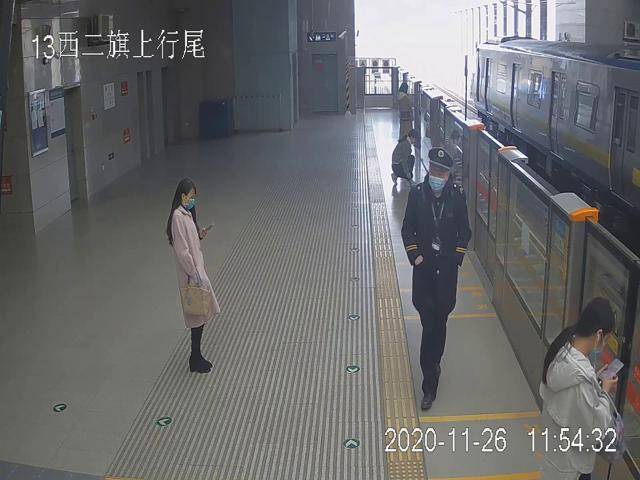person: (401, 145, 472, 410), (539, 294, 623, 480), (167, 179, 219, 371)
